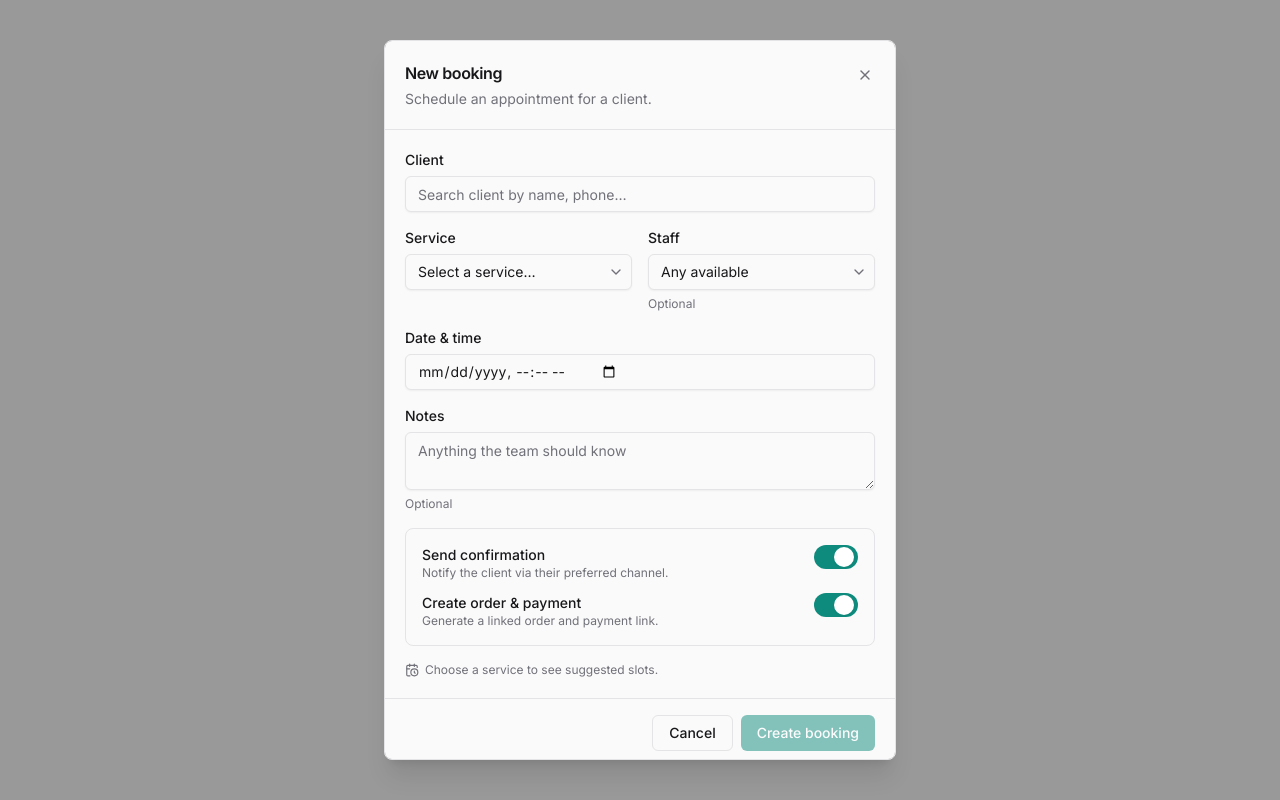
Test: CreateBookingModal › lets the operator swap the chosen client back out
Type "Asha" into the field with placeholder "Search client by name, phone…" at (640, 194), box [405,176,875,212]
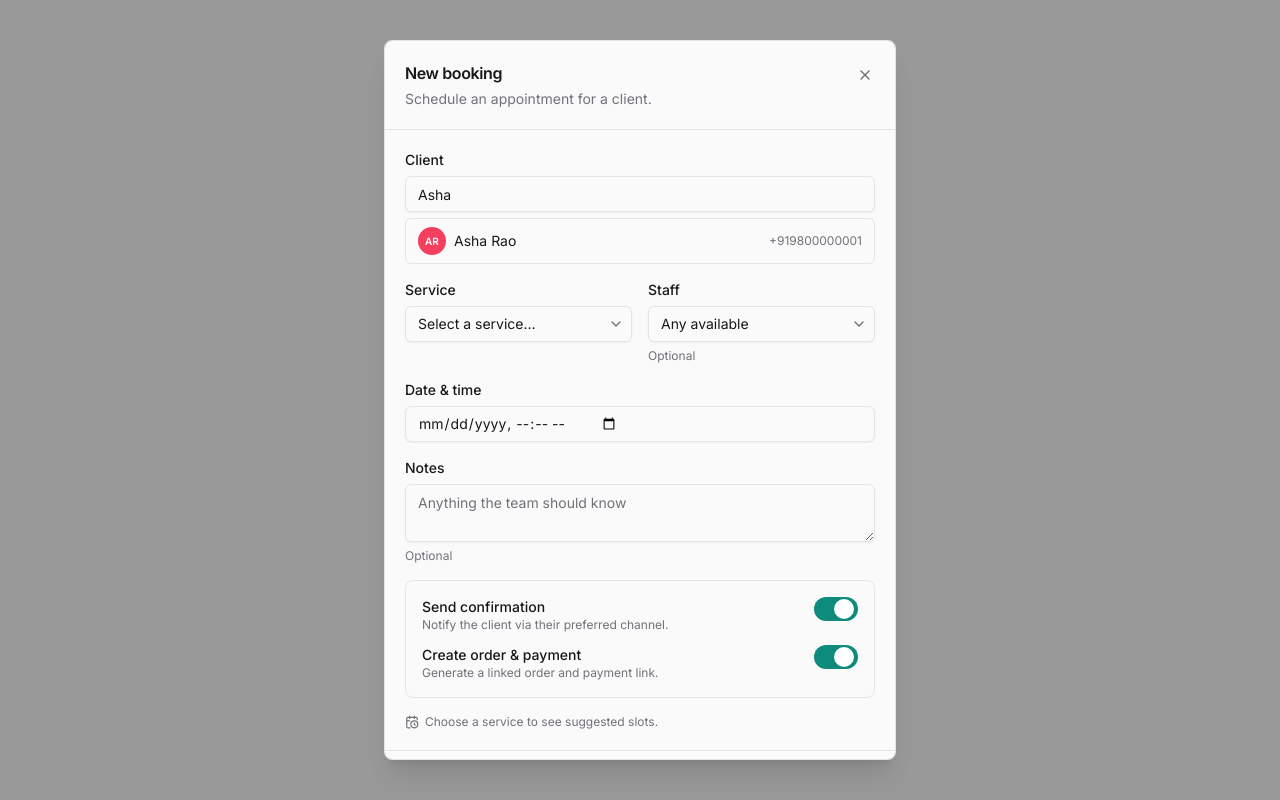
Click the text "Asha Rao" at (485, 241), box [454,231,516,251]
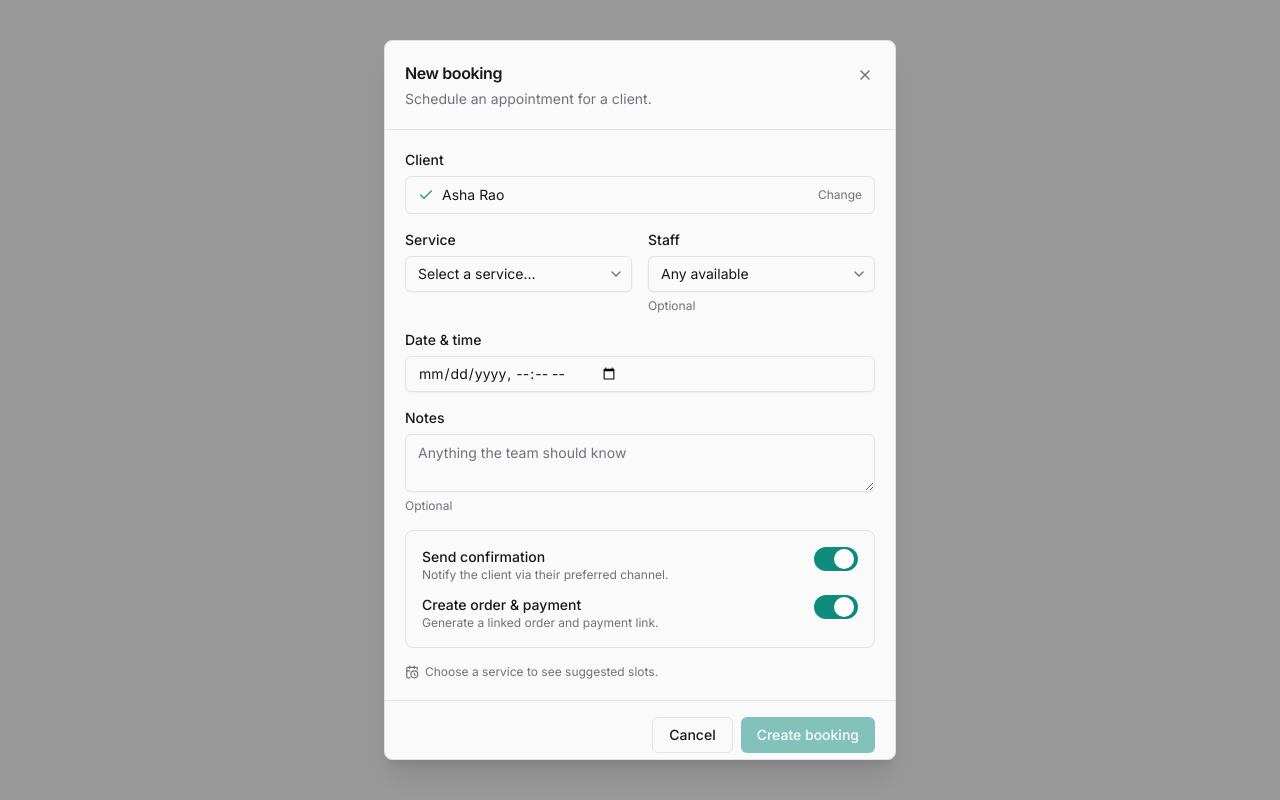
Click the button "Change" at (840, 195), box [818,187,862,203]
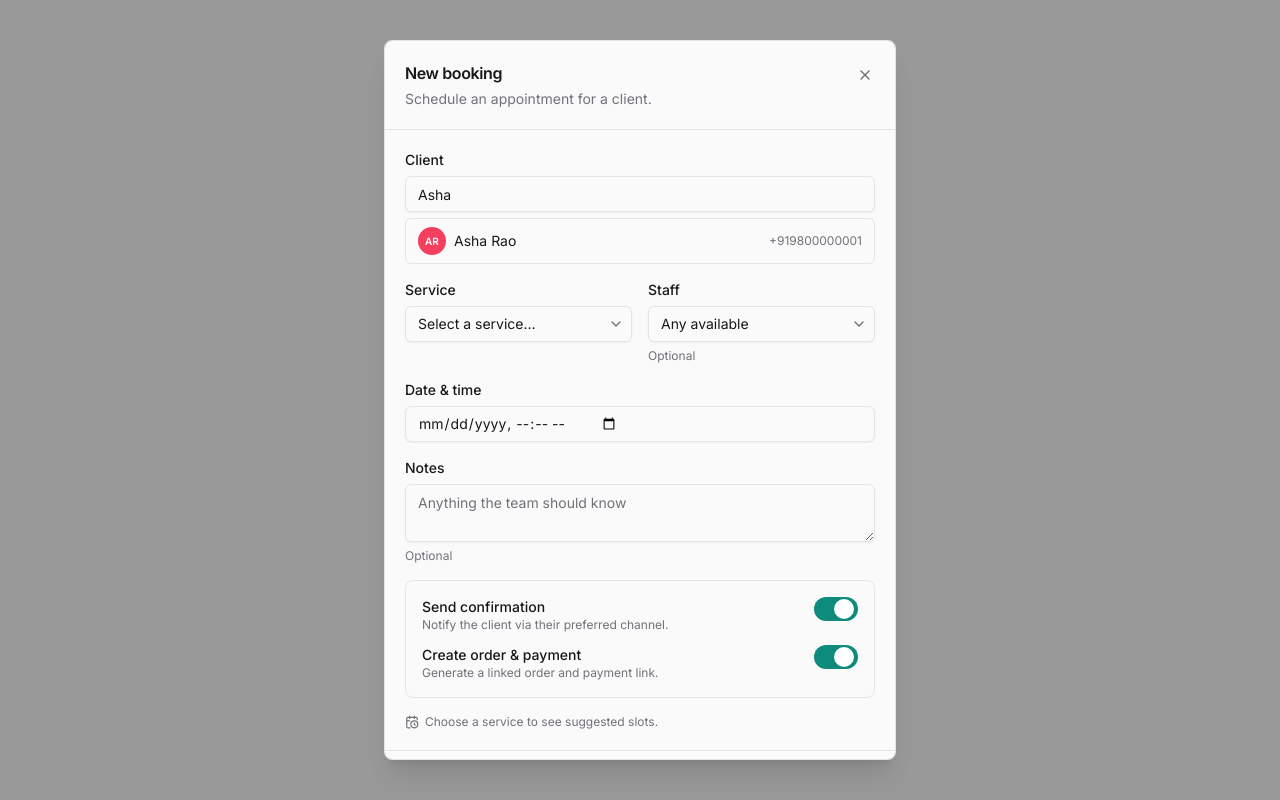
Now the field with placeholder "Search client by name, phone…" is shown, box [405,176,875,212]
